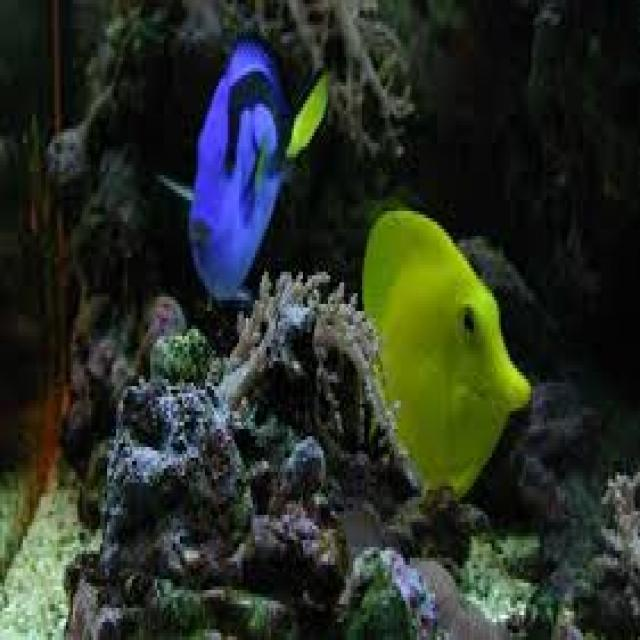YellowTang: (345, 199, 533, 516)
